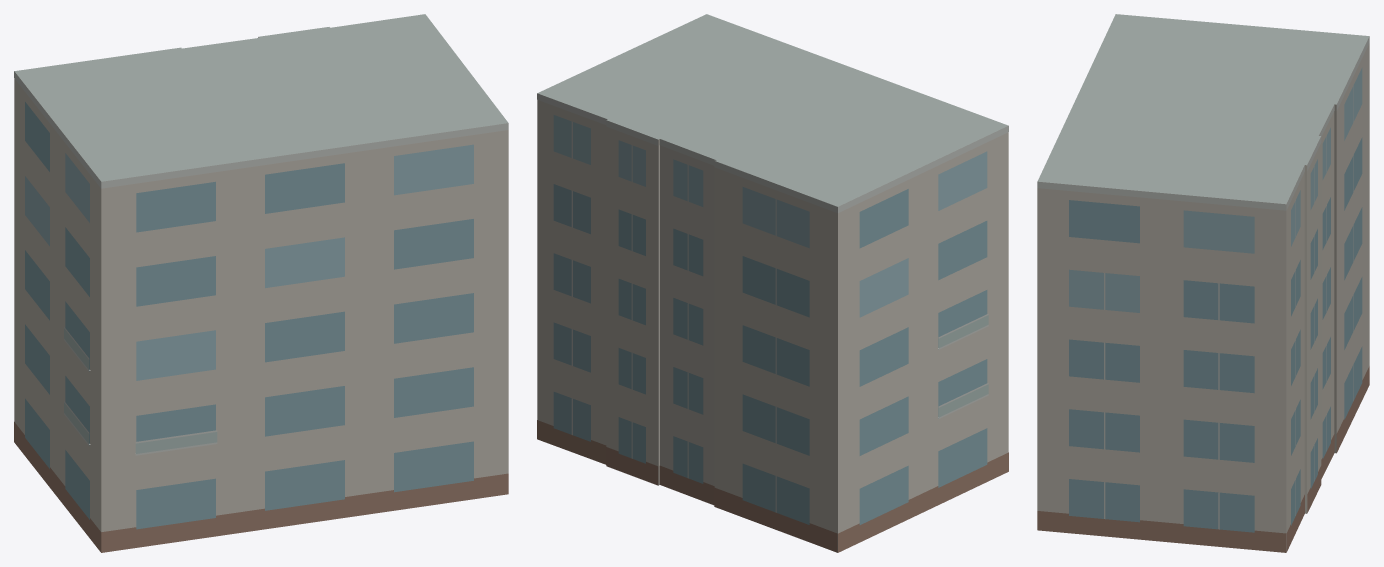
The model's file is survey-upis-32663398.glb.
3 views of the same model, side by side, from view 1: azimuth 30°, elevation 25°; view 2: azimuth 150°, elevation 25°; view 3: azimuth 270°, elevation 25° (orthographic). The views are drawn at different scales.
Parts seen in each view (by area): view 1: survey-upis-32663398.tmp; view 2: survey-upis-32663398.tmp; view 3: survey-upis-32663398.tmp.
Boxes of the visible parts, box(x1,y1,x2,y2) form: survey-upis-32663398.tmp: box(14, 14, 508, 552); survey-upis-32663398.tmp: box(537, 14, 1008, 552); survey-upis-32663398.tmp: box(1037, 14, 1369, 552).
Bounding box in the file's own units: 15.4 × 13.15 × 11.37.
